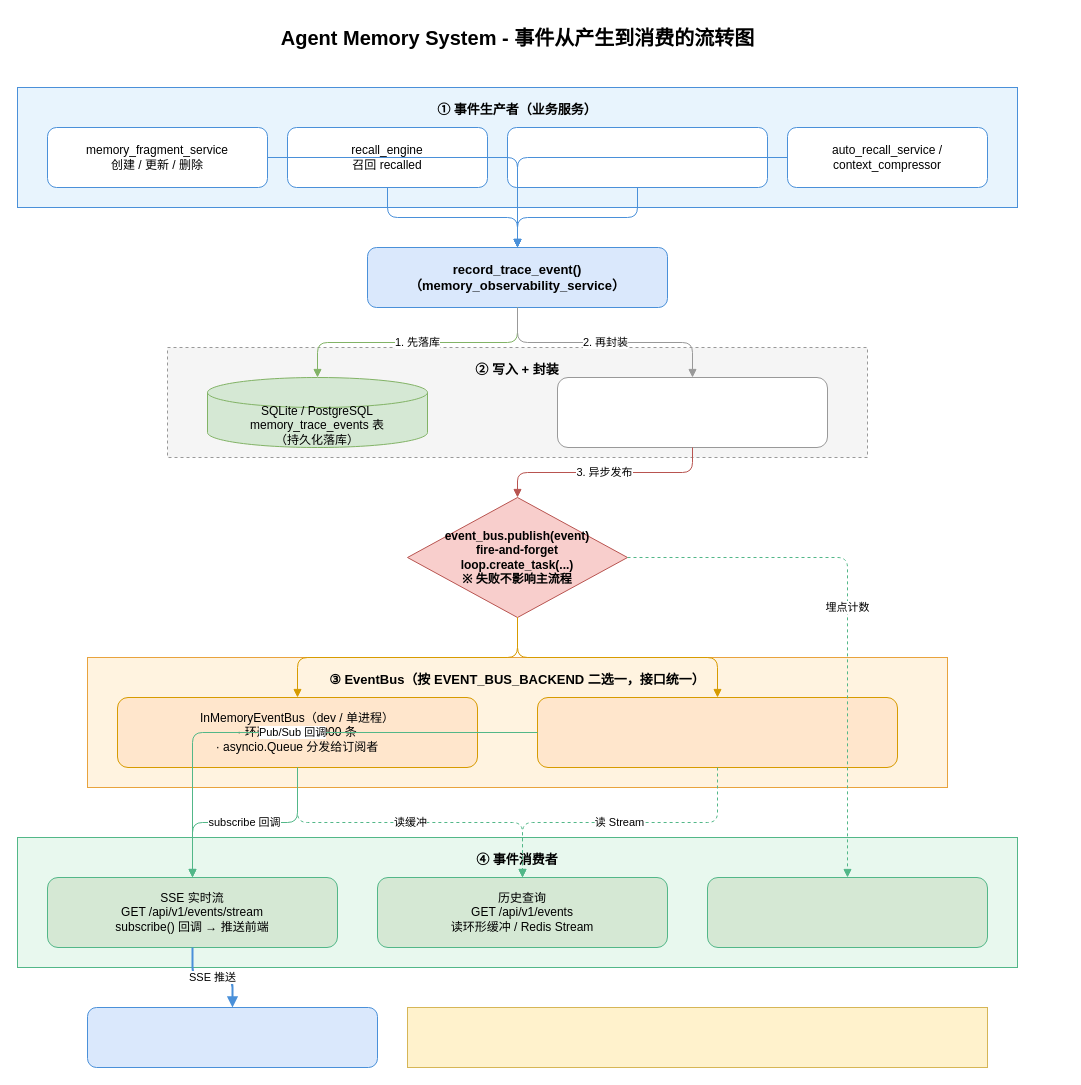
This 1081x1085 diagram has some shape labels left out. The centre of each missing label's shape, as x and y in pixels:
"memory_lifecycle_service 衰减 / 合并 / 冷标记 / 删除 / 恢复" belongs at pixel 637 157.
"MemoryEvent.from_trace_event() 封装为统一事件对象 (event_type/user_id/memory_id/data...)" belongs at pixel 692 412.
"Prometheus 指标 event_bus_published_total （publish 时计数）" belongs at pixel 847 912.
"RedisEventBus（prod / 多进程） · Redis Pub/Sub 跨进程分发 · Redis Stream 持久化最近事件" belongs at pixel 717 732.
"前端浏览器 EventSource 实时看板 / 事件时间线" belongs at pixel 232 1037.
"核心设计：publish 为 fire-and-forget（红色菱形），即使总线故障或无订阅者，记忆写库主流程在第 ② 步已完成，事件仅为附加通知。" belongs at pixel 697 1037.
